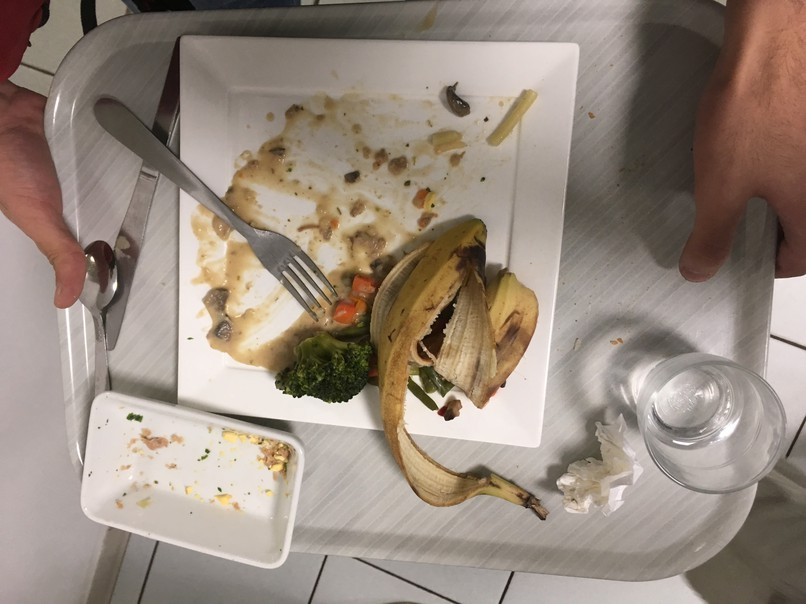orga: (389, 224, 532, 405), (383, 411, 532, 517), (286, 328, 371, 407)
trash: (556, 412, 649, 520)
